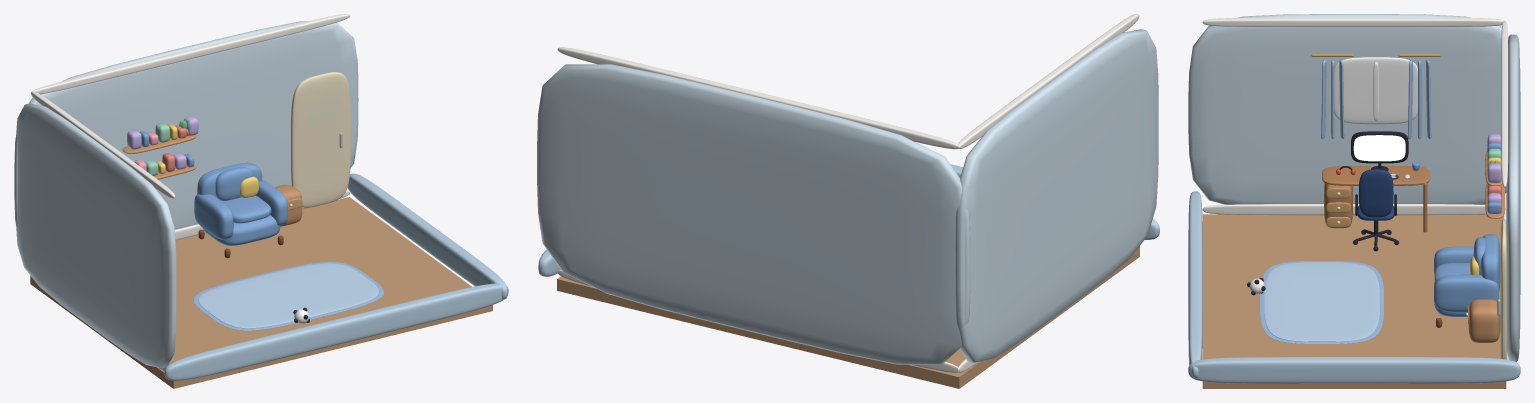
File: casa_cuarto_el.glb
The picture shows the model from 3 angles, left to right: view 1: azimuth 30°, elevation 25°; view 2: azimuth 150°, elevation 25°; view 3: azimuth 270°, elevation 25°; orthographic projection. The views are drawn at different scales.
Visible parts, largest first — view 1: pared izquierda.003, pared fondo.003, piso.003, muro bajo frente.003, tapete.003, puerta.003, muro bajo derecha.003, cornisa fondo.003, brazo sillón, cornisa izquierda.003, borde tapete.003, base sillón (+6 smaller); view 2: pared fondo.003, pared izquierda.003, piso.003, cornisa fondo.003, cornisa izquierda.003; view 3: pared izquierda.003, piso.003, tapete.003, muro bajo derecha.003, marco.001, pared fondo.003, cornisa izquierda.003, muro bajo frente.003, zócalo izquierdo.003, brazo sillón.001, espaldar gamer, tabla escritorio (+17 smaller).
Boxes of the visible parts, x1,y1,x2,y2 form: pared izquierda.003: (16,103,176,368); pared fondo.003: (14,21,358,229); piso.003: (30,197,492,388); muro bajo frente.003: (164,283,508,380); tapete.003: (198,263,378,328); puerta.003: (291,72,350,207); muro bajo derecha.003: (347,173,507,299); cornisa fondo.003: (30,14,350,94); brazo sillón: (194,194,233,239); cornisa izquierda.003: (31,91,175,198); borde tapete.003: (193,261,383,330); base sillón: (203,215,280,245); pared fondo.003: (537,64,970,364); pared izquierda.003: (955,29,1158,362); piso.003: (557,246,1139,388); cornisa fondo.003: (557,47,959,149); cornisa izquierda.003: (957,14,1139,148); pared izquierda.003: (1188,14,1520,204); piso.003: (1202,214,1506,388); tapete.003: (1264,262,1379,341); muro bajo derecha.003: (1188,357,1520,383); marco.001: (1334,57,1417,124); pared fondo.003: (1506,34,1520,362); cornisa izquierda.003: (1202,17,1504,27); muro bajo frente.003: (1188,191,1202,378); zócalo izquierdo.003: (1202,204,1506,215); brazo sillón.001: (1434,274,1498,312); espaldar gamer: (1359,169,1393,217); tabla escritorio: (1322,166,1430,185).
Size of the model in its own units: 5.8 by 3.15 by 4.6.
